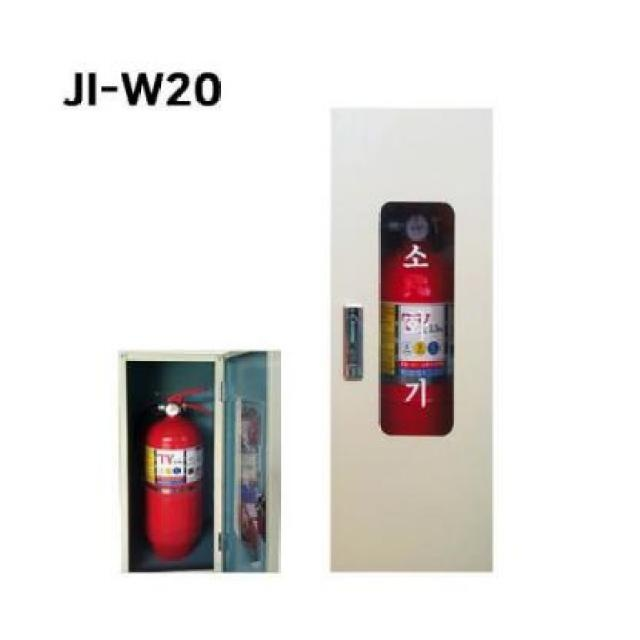fire extinguisher: (379, 207, 455, 436), (145, 386, 212, 562)
